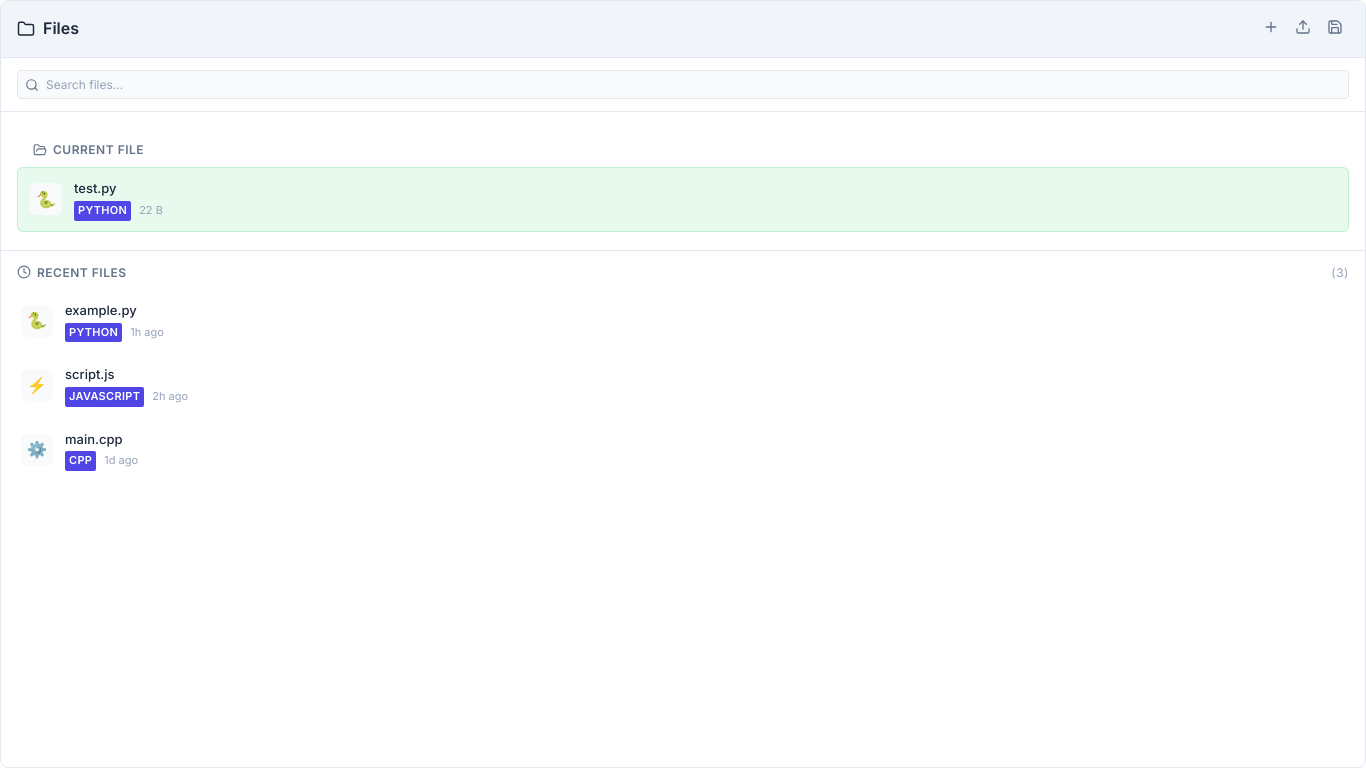
it: FileManager Component › Search Functionality › should filter files by language
In the field with placeholder "Search files...": (683, 84) [17, 70, 1349, 99], type "javascript"
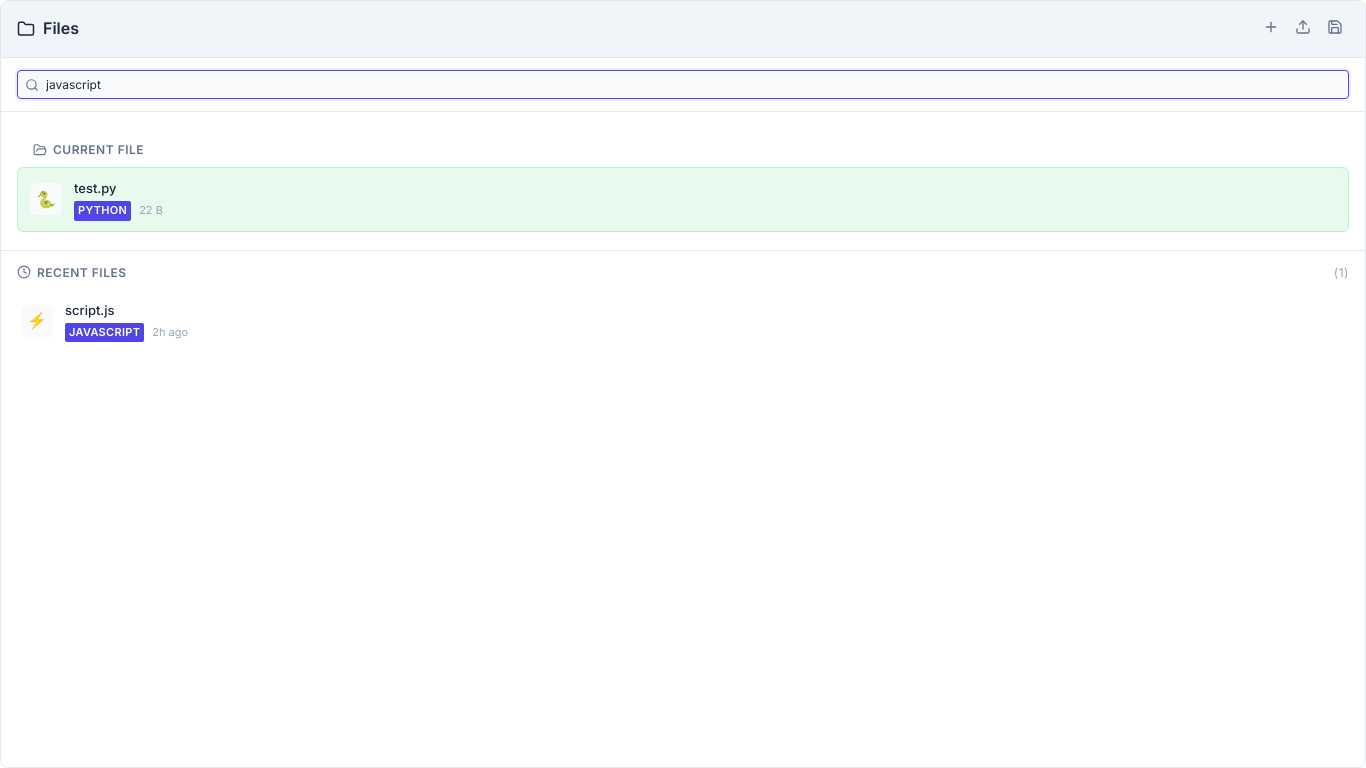
Expected: the text "script.js" is shown, [65, 302, 115, 318]
Now the text "example.py" is gone
Now the text "main.cpp" is gone
